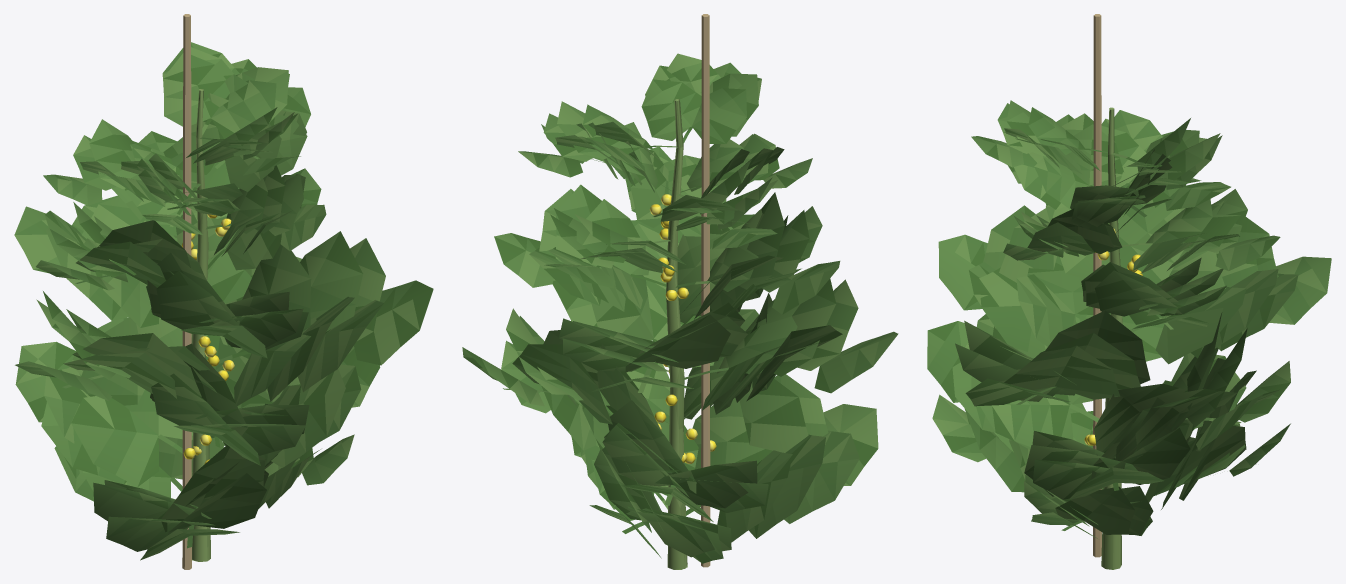
Rendered from tomate_fleurs.glb.
3 views of the same model, side by side, from view 1: azimuth 30°, elevation 25°; view 2: azimuth 150°, elevation 25°; view 3: azimuth 270°, elevation 25° (orthographic). The views are drawn at different scales.
Parts seen in each view (by area): view 1: Tomate_Feuilles, Tomate_Tuteur, Tomate_Tige, Tomate_Fleurs; view 2: Tomate_Feuilles, Tomate_Tige, Tomate_Tuteur, Tomate_Fleurs; view 3: Tomate_Feuilles, Tomate_Tuteur, Tomate_Tige.
Part boxes in pixels (x1,y1,x2,y2): Tomate_Feuilles: [14, 42, 433, 560]; Tomate_Tuteur: [182, 14, 191, 569]; Tomate_Tige: [191, 89, 210, 561]; Tomate_Fleurs: [181, 214, 234, 464]; Tomate_Feuilles: [462, 53, 898, 563]; Tomate_Tige: [666, 99, 687, 569]; Tomate_Tuteur: [701, 14, 710, 567]; Tomate_Fleurs: [649, 194, 716, 463]; Tomate_Feuilles: [927, 100, 1331, 538]; Tomate_Tuteur: [1093, 14, 1101, 557]; Tomate_Tige: [1101, 107, 1122, 569].
Bounding box in the file's own units: 0.549 × 0.7803 × 0.5295.
